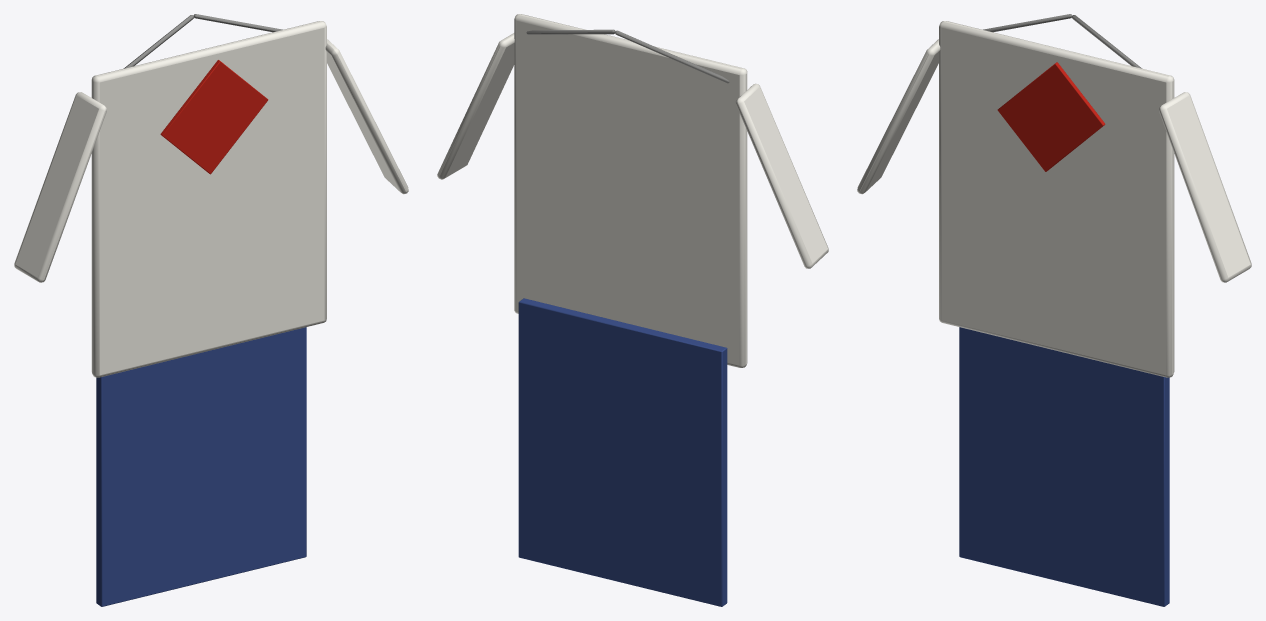
File: DongPhuc_Treo.glb
3 views of the same model, side by side, from view 1: azimuth 30°, elevation 25°; view 2: azimuth 150°, elevation 25°; view 3: azimuth 330°, elevation 25° (orthographic).
Parts seen in each view (by area): view 1: DongPhuc_Treo; view 2: DongPhuc_Treo; view 3: DongPhuc_Treo.
Part boxes in pixels (bbox=[...]): DongPhuc_Treo: bbox=[14, 14, 408, 606]; DongPhuc_Treo: bbox=[437, 14, 828, 606]; DongPhuc_Treo: bbox=[857, 14, 1251, 606].
Bounding box in the file's own units: 0.5513 × 0.7819 × 0.0819.
